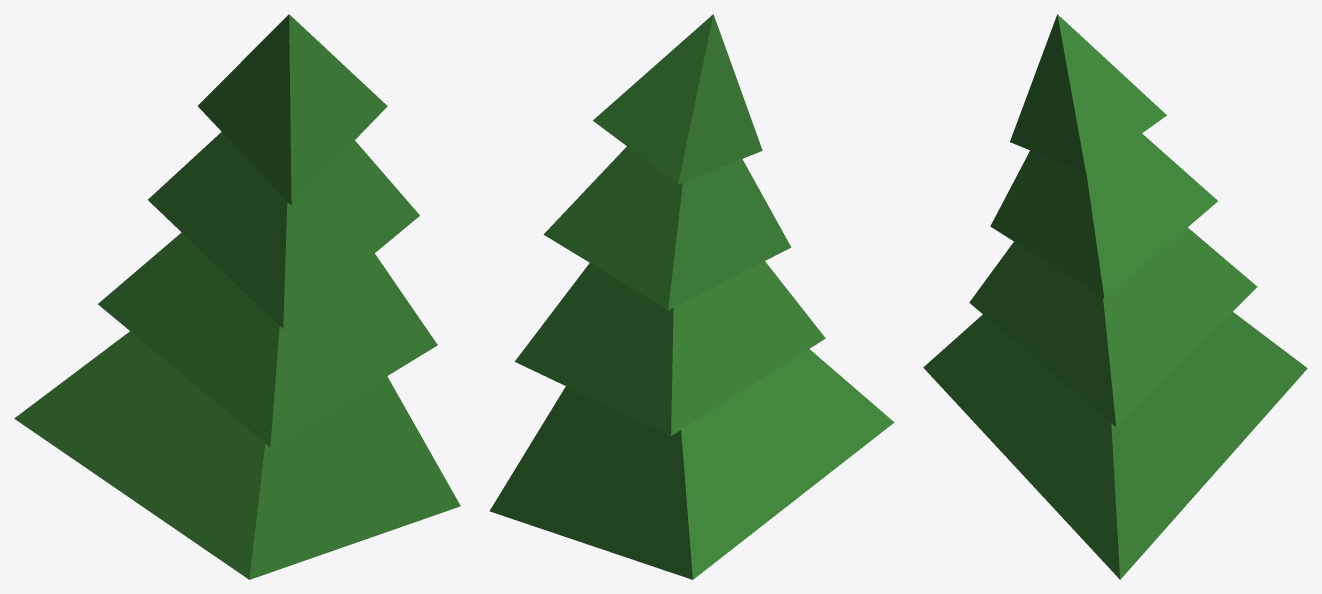
The model's file is Var_3.fbx.
3 views of the same model, side by side, from view 1: azimuth 30°, elevation 25°; view 2: azimuth 150°, elevation 25°; view 3: azimuth 270°, elevation 25° (orthographic). The views are drawn at different scales.
Visible parts, largest first — view 1: Var_3; view 2: Var_3; view 3: Var_3.
Part boxes in pixels (x1=…): Var_3: x1=14, y1=14, x2=460, y2=579; Var_3: x1=489, y1=14, x2=894, y2=579; Var_3: x1=923, y1=14, x2=1307, y2=579.
Size of the model in its own units: 153 by 249 by 180.
